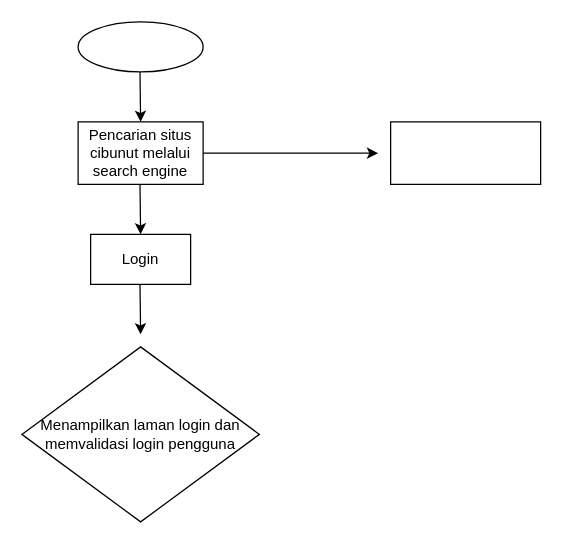
This 563x544 diagram has some shape labels left out. The shapes that lost their labels are listed below. From the top down, each one's centre as x and y in pixels, then its label:
the point at 140,46: Mulai
the point at 465,152: menampilkan laman paling atas
